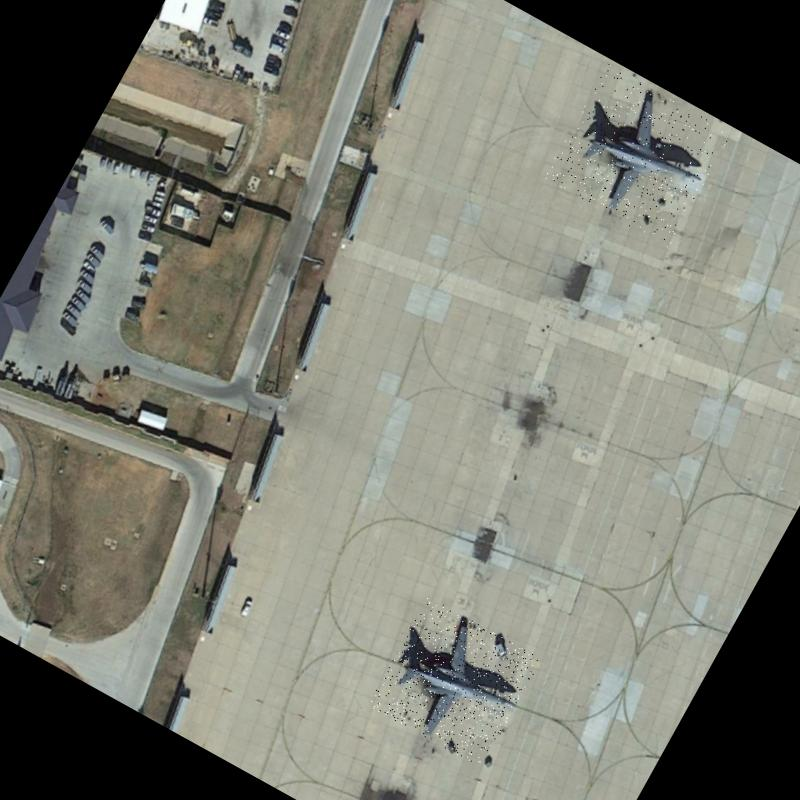A10: (542, 62, 732, 248), (367, 596, 541, 768)
